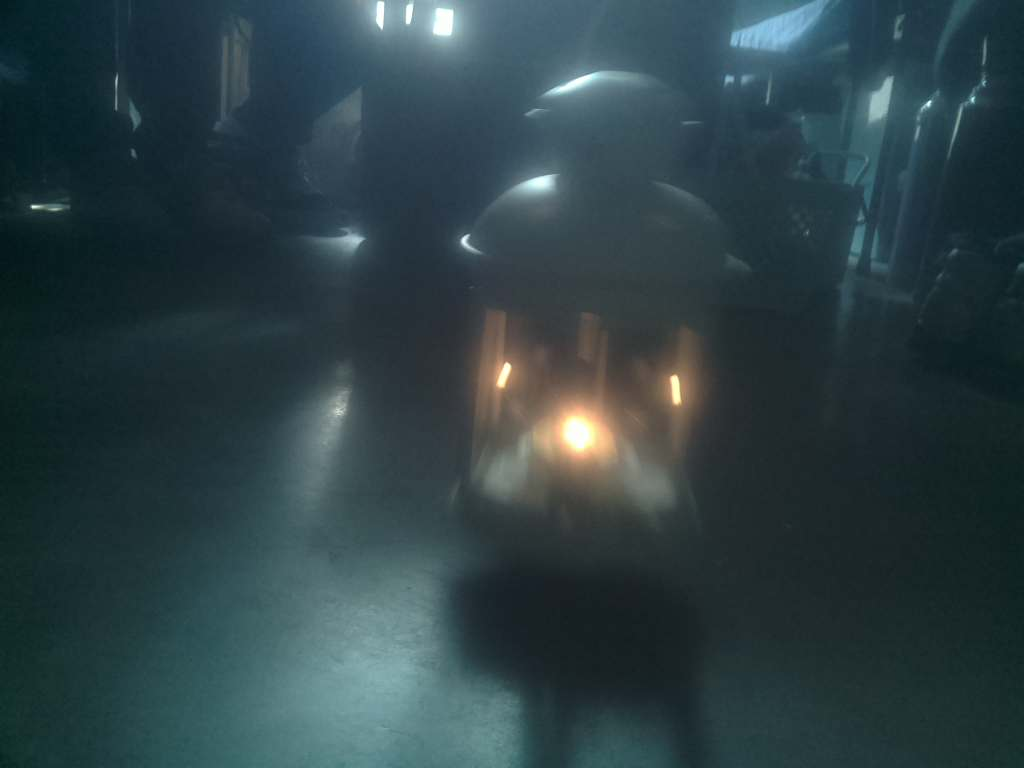fire: (506, 371, 653, 488)
